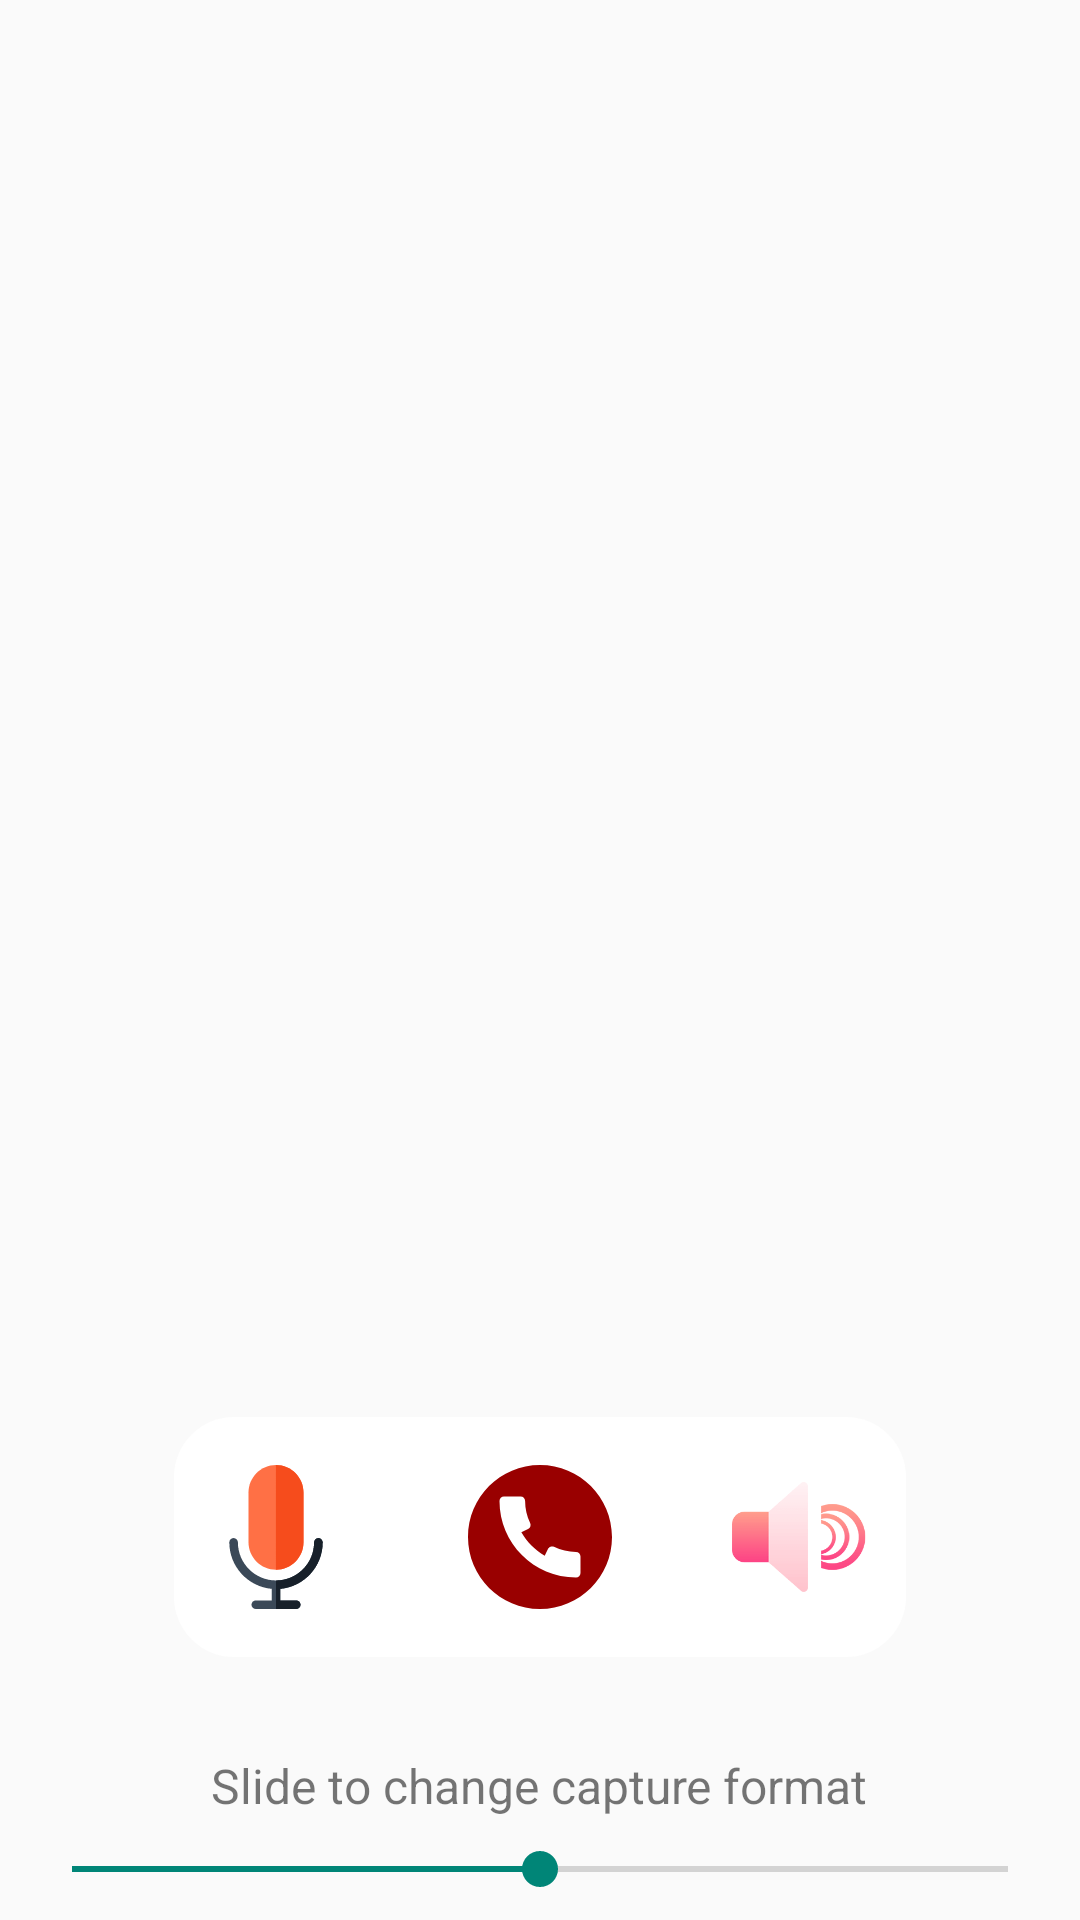

Icon bounding boxes for this 1080×1920 phone screenshot, format bbox=(x1, y1, x2, y2):
Disconnect Call: bbox=(468, 1465, 612, 1609)
Toggle microphone on/off: bbox=(229, 1465, 323, 1609)
